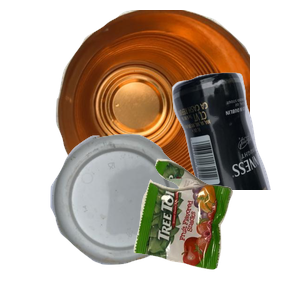glass: (106, 70, 300, 250)
metal: (53, 10, 293, 190)
plastic: (48, 132, 224, 300)
trash: (131, 156, 300, 300)
